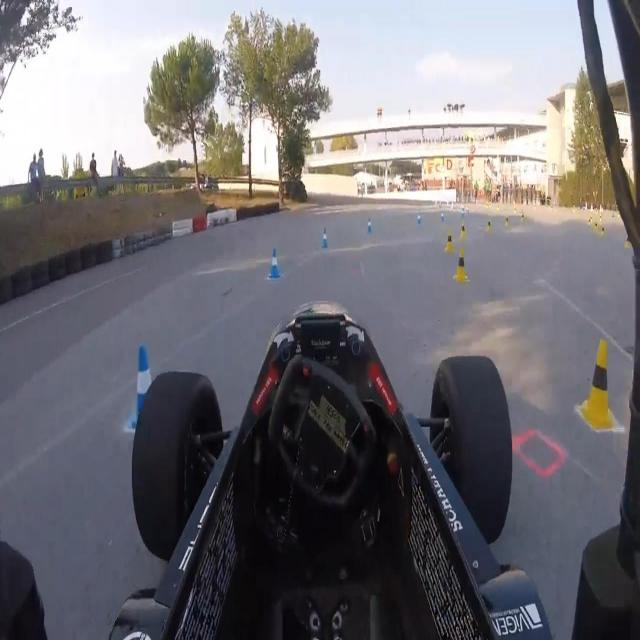blue_cone: (125, 343, 159, 439), (268, 244, 281, 282), (320, 227, 329, 249), (367, 217, 373, 235), (416, 213, 421, 228), (441, 211, 445, 224)
yellow_cone: (582, 337, 615, 432), (456, 249, 468, 283), (444, 230, 454, 255), (459, 221, 466, 241), (624, 234, 631, 248), (505, 216, 510, 230), (487, 220, 492, 233), (601, 226, 605, 236)
